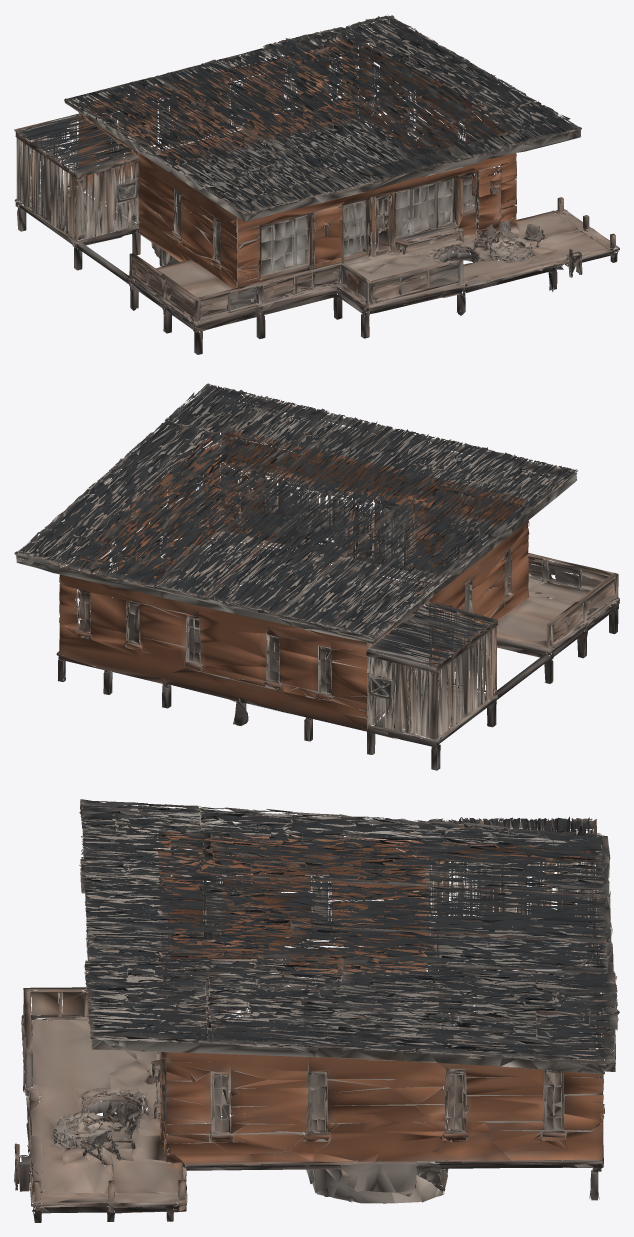
Rendered from lakehouse.glb.
3 views of the same model, one above another, from view 1: azimuth 30°, elevation 25°; view 2: azimuth 150°, elevation 25°; view 3: azimuth 270°, elevation 25° (orthographic). The views are drawn at different scales.
Parts seen in each view (by area): view 1: LO.001; view 2: LO.001; view 3: LO.001.
Part boxes in pixels (x1,y1,x2,y2): LO.001: [14, 14, 619, 354]; LO.001: [14, 383, 619, 770]; LO.001: [14, 799, 619, 1222].
Bounding box in the file's own units: 1.93 × 0.635 × 1.75.
1 material, 1 textured.
